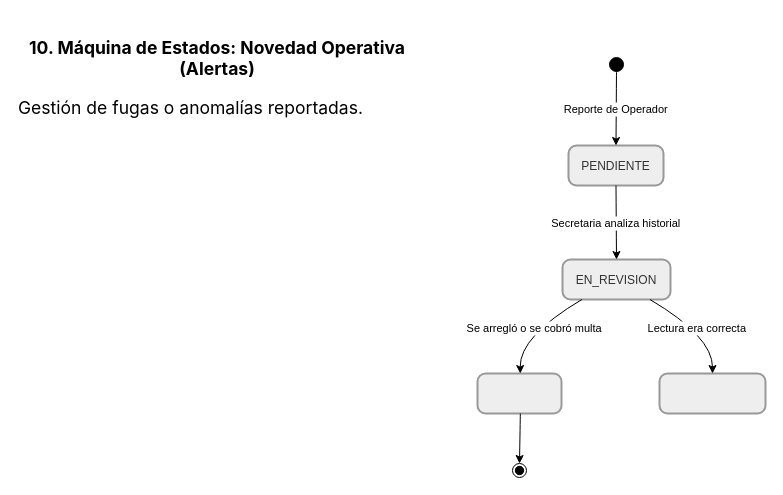
This 783x495 diagram has some shape labels left out. The shapes that lost their labels are listed below. From the top down, each one's centre as x and y in pixels, then its label:
the point at 519,393: RESUELTA
the point at 712,393: DESCARTADA
